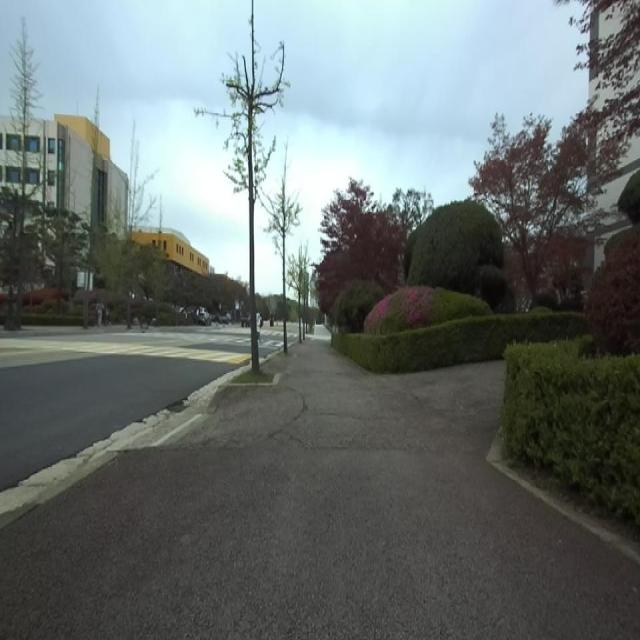sidewalk: (0, 340, 640, 639), (1, 452, 116, 528)
